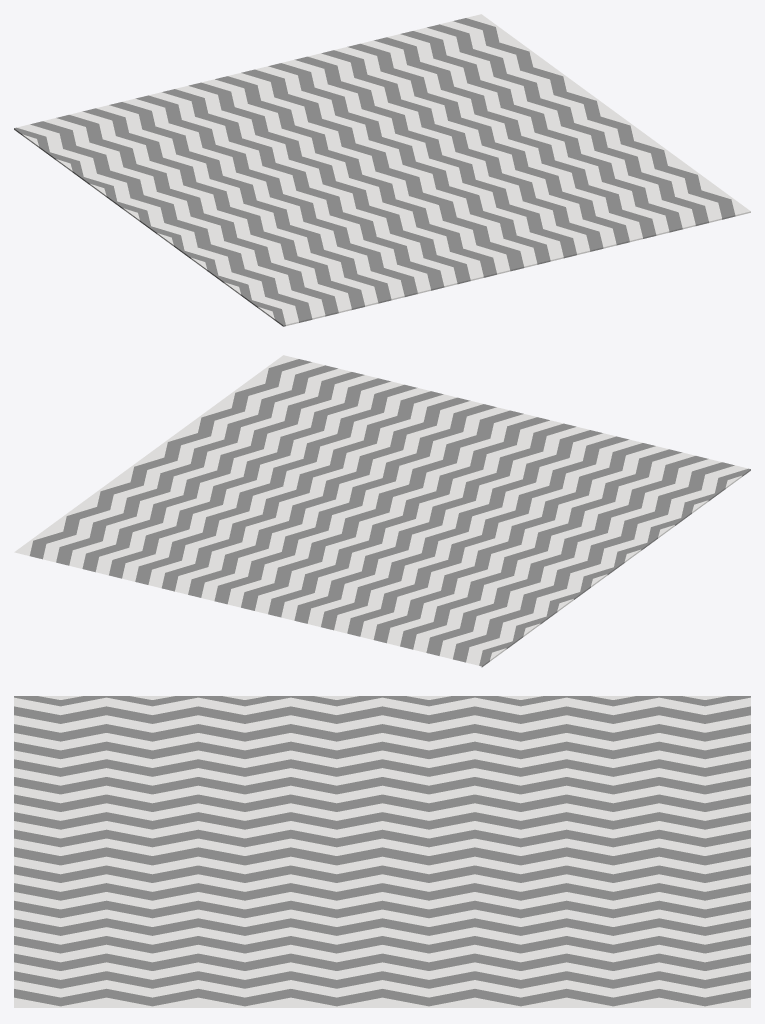
The model's file is Floor_2.fbx.
The picture shows the model from 3 angles, top to bottom: view 1: azimuth 30°, elevation 25°; view 2: azimuth 150°, elevation 25°; view 3: azimuth 270°, elevation 25°; orthographic projection. The views are drawn at different scales.
Parts seen in each view (by area): view 1: Floor_2; view 2: Floor_2; view 3: Floor_2.
Part boxes in pixels (x1=…): Floor_2: x1=14, y1=14, x2=750, y2=326; Floor_2: x1=14, y1=355, x2=750, y2=667; Floor_2: x1=14, y1=696, x2=750, y2=1007.
Size of the model in its own units: 492 by 491 by 1.45.
